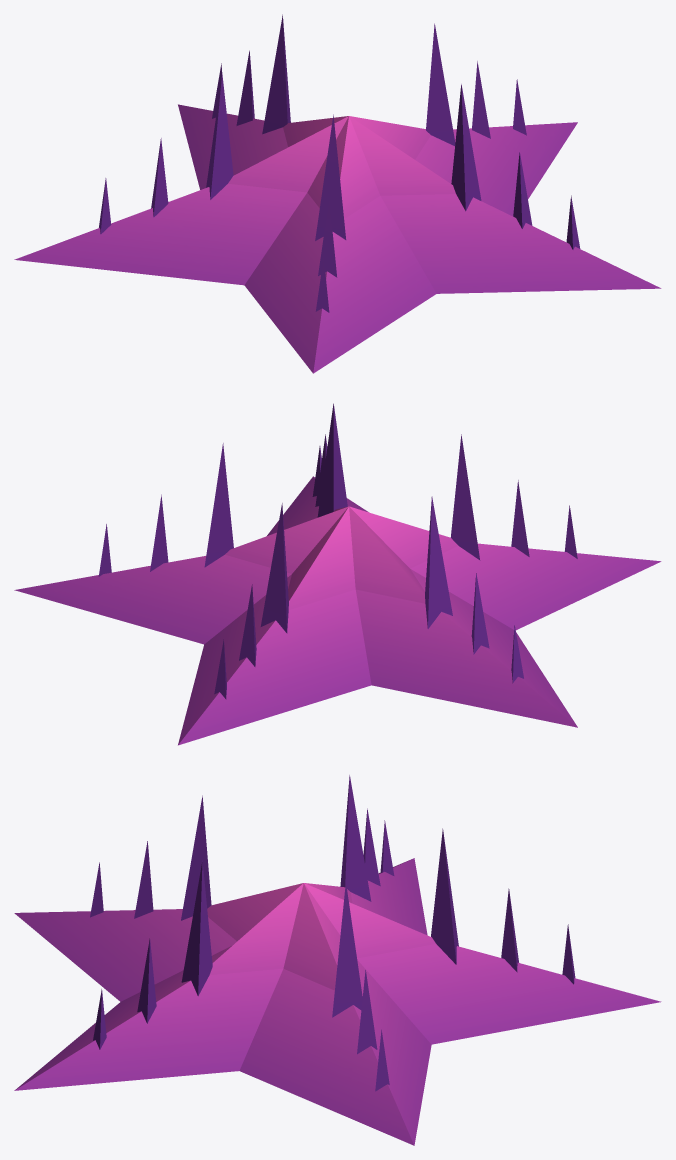
Rendered from Starfish_4.fbx.
3 views of the same model, one above another, from view 1: azimuth 30°, elevation 25°; view 2: azimuth 150°, elevation 25°; view 3: azimuth 270°, elevation 25° (orthographic). The views are drawn at different scales.
Parts seen in each view (by area): view 1: Starfish_4; view 2: Starfish_4; view 3: Starfish_4.
Boxes of the visible parts, x1,y1,x2,y2 form: Starfish_4: [14, 14, 661, 373]; Starfish_4: [14, 403, 661, 745]; Starfish_4: [14, 775, 661, 1145].
Size of the model in its own units: 262 by 73.99 by 249.
